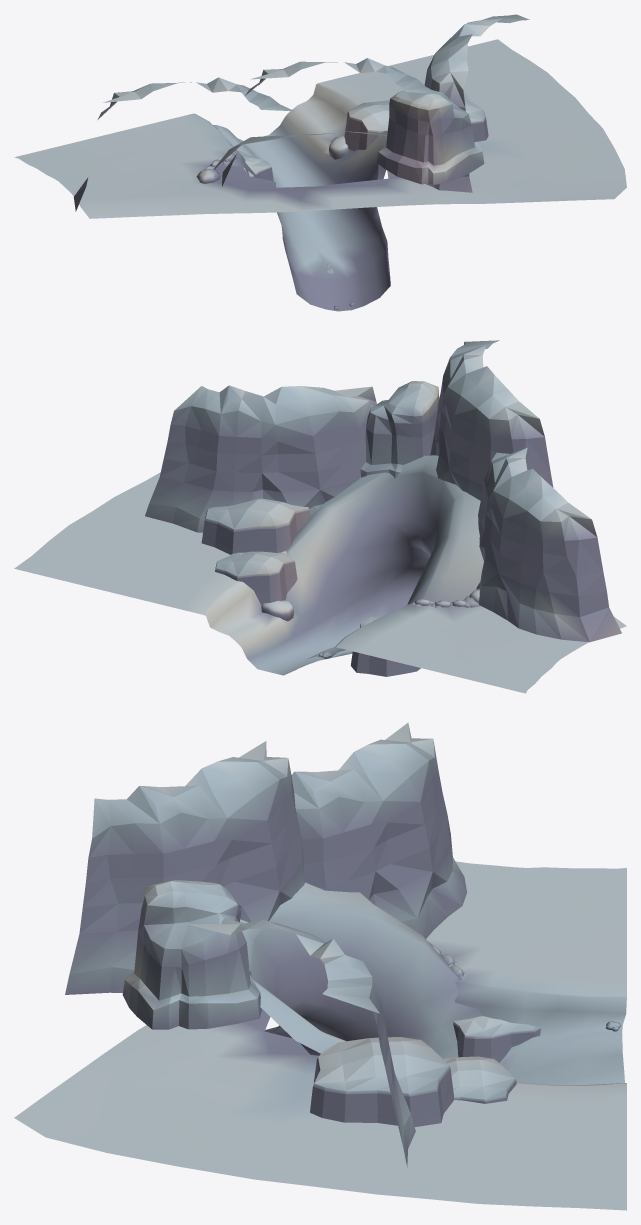
The model's file is Arctic_Luge_Tunnel_Right_15_Start_A.glb.
3 renders of one model, top to bottom at view 1: azimuth 30°, elevation 25°; view 2: azimuth 150°, elevation 25°; view 3: azimuth 270°, elevation 25°, orthographic. The views are drawn at different scales.
Visible parts, largest first — view 1: Arctic_Luge_Tunnel_Right_15_Start_A, Arctic_Luge_TallIceRock_prop, Arctic_Luge_IceWall_prop (1), Arctic_Luge_IceWall_prop, Arctic_Luge_IceWall_prop (2), Arctic_Luge_SmallIceRock_prop (1), Arctic_Luge_SmallIceRock_prop (2), Arctic_Luge_SmallIceRock_prop; view 2: Arctic_Luge_Tunnel_Right_15_Start_A, Arctic_Luge_IceWall_prop (1), Arctic_Luge_IceWall_prop, Arctic_Luge_IceWall_prop (2), Arctic_Luge_TallIceRock_prop, Arctic_Luge_SmallIceRock_prop (2), Arctic_Luge_SmallIceRock_prop (1), Arctic_Luge_SmallIceRock_prop; view 3: Arctic_Luge_Tunnel_Right_15_Start_A, Arctic_Luge_IceWall_prop (2), Arctic_Luge_IceWall_prop, Arctic_Luge_TallIceRock_prop, Arctic_Luge_SmallIceRock_prop (2), Arctic_Luge_IceWall_prop (1), Arctic_Luge_SmallIceRock_prop, Arctic_Luge_SmallIceRock_prop (1).
Boxes of the visible parts, bbox=[...] form: Arctic_Luge_Tunnel_Right_15_Start_A: bbox=[14, 39, 626, 311]; Arctic_Luge_TallIceRock_prop: bbox=[376, 90, 484, 184]; Arctic_Luge_IceWall_prop (1): bbox=[424, 14, 529, 192]; Arctic_Luge_IceWall_prop: bbox=[73, 77, 294, 211]; Arctic_Luge_IceWall_prop (2): bbox=[222, 58, 439, 186]; Arctic_Luge_SmallIceRock_prop (1): bbox=[344, 100, 389, 151]; Arctic_Luge_SmallIceRock_prop (2): bbox=[463, 92, 488, 141]; Arctic_Luge_SmallIceRock_prop: bbox=[238, 150, 273, 181]; Arctic_Luge_Tunnel_Right_15_Start_A: bbox=[14, 455, 626, 693]; Arctic_Luge_IceWall_prop (1): bbox=[145, 385, 376, 532]; Arctic_Luge_IceWall_prop: bbox=[476, 447, 621, 642]; Arctic_Luge_IceWall_prop (2): bbox=[430, 340, 553, 500]; Arctic_Luge_TallIceRock_prop: bbox=[360, 381, 439, 478]; Arctic_Luge_SmallIceRock_prop (2): bbox=[201, 498, 310, 554]; Arctic_Luge_SmallIceRock_prop (1): bbox=[215, 551, 297, 605]; Arctic_Luge_SmallIceRock_prop: bbox=[350, 616, 420, 676]; Arctic_Luge_Tunnel_Right_15_Start_A: bbox=[14, 861, 626, 1210]; Arctic_Luge_IceWall_prop (2): bbox=[65, 741, 304, 994]; Arctic_Luge_IceWall_prop: bbox=[291, 723, 466, 938]; Arctic_Luge_TallIceRock_prop: bbox=[122, 880, 262, 1029]; Arctic_Luge_SmallIceRock_prop (2): bbox=[310, 1037, 453, 1126]; Arctic_Luge_IceWall_prop (1): bbox=[186, 918, 415, 1167]; Arctic_Luge_SmallIceRock_prop: bbox=[453, 1016, 540, 1062]; Arctic_Luge_SmallIceRock_prop (1): bbox=[443, 1056, 516, 1103].
Bounding box in the file's own units: 26.75 × 12.96 × 19.63.
